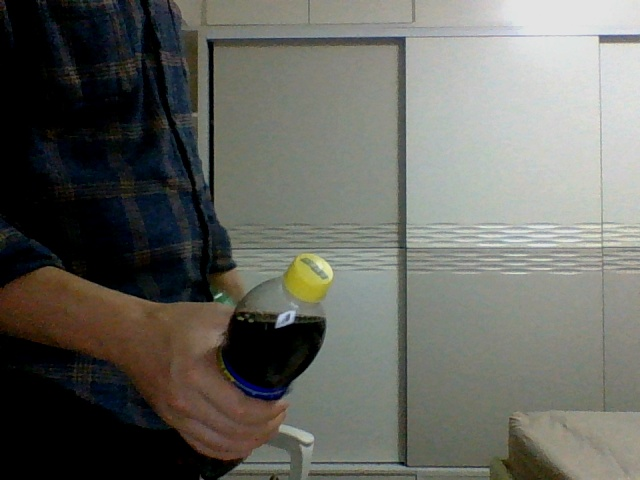Cola: (215, 254, 331, 393)
